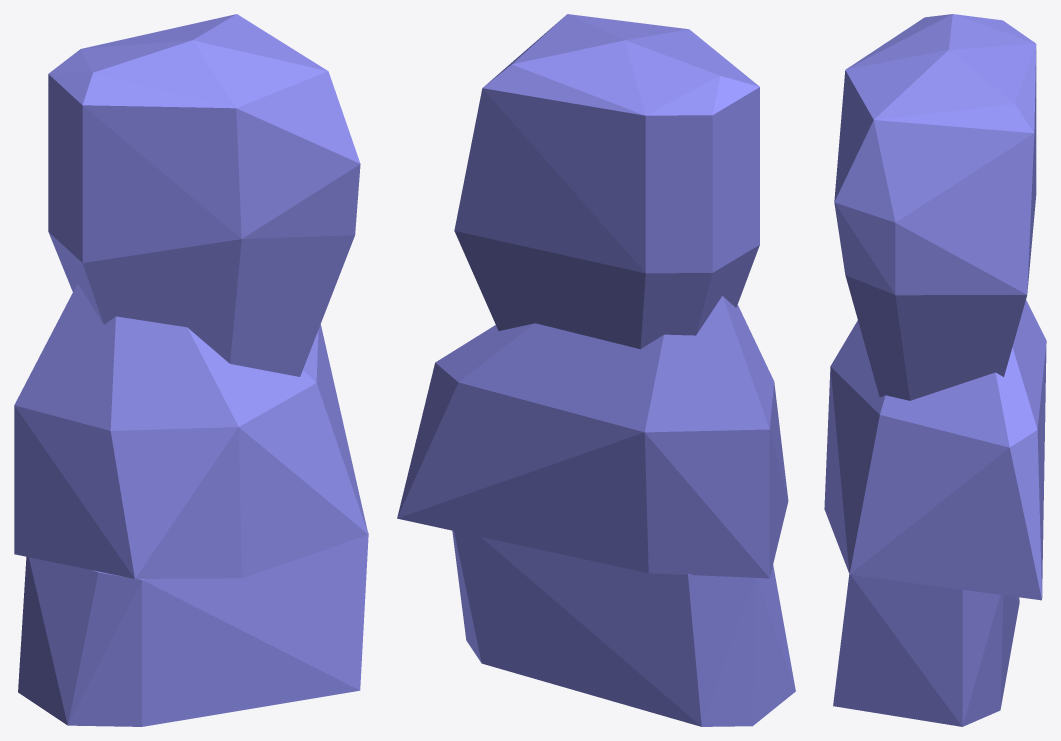
File: Cliff_Spire_02_Collider_01.FBX
3 renders of one model, left to right at view 1: azimuth 30°, elevation 25°; view 2: azimuth 150°, elevation 25°; view 3: azimuth 270°, elevation 25°, orthographic. The views are drawn at different scales.
Parts seen in each view (by area): view 1: COLLIDER3, COLLIDER2, COLLIDER1; view 2: COLLIDER3, COLLIDER2, COLLIDER1; view 3: COLLIDER3, COLLIDER2, COLLIDER1.
Part boxes in pixels (left/top/right/bottom): COLLIDER3: left=48, top=14, right=360, bottom=376; COLLIDER2: left=14, top=283, right=367, bottom=578; COLLIDER1: left=18, top=532, right=368, bottom=726; COLLIDER3: left=454, top=14, right=759, bottom=349; COLLIDER2: left=397, top=296, right=788, bottom=578; COLLIDER1: left=452, top=530, right=795, bottom=726; COLLIDER3: left=834, top=14, right=1036, bottom=400; COLLIDER2: left=824, top=300, right=1046, bottom=600; COLLIDER1: left=833, top=573, right=1019, bottom=726.
Size of the model in its own units: 249 by 441 by 146.
